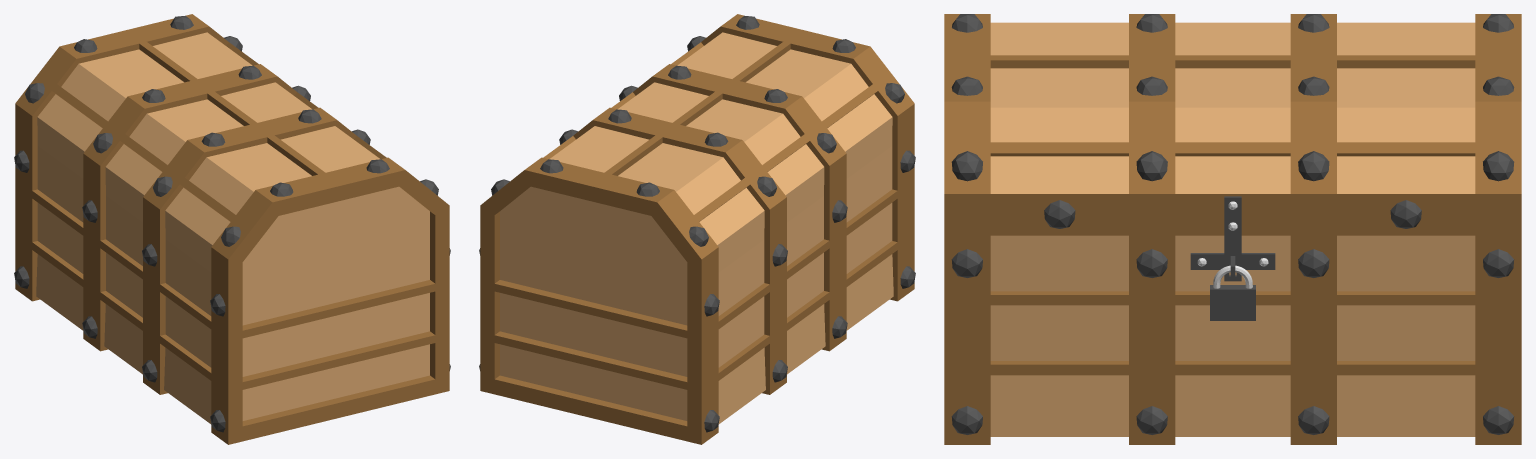
Rendered from wooden_chest1.glb.
3 views of the same model, side by side, from view 1: azimuth 30°, elevation 25°; view 2: azimuth 150°, elevation 25°; view 3: azimuth 270°, elevation 25° (orthographic). The views are drawn at different scales.
Parts seen in each view (by area): view 1: Cube; view 2: Cube; view 3: Cube, Cube.003, Cube.002, Cube.001, iron_cap.021, iron_cap.022, iron_cap.020, iron_cap.023, iron_cap.001, iron_cap.002, iron_cap.008, iron_cap.009 (+6 smaller).
Part boxes in pixels (left/top/right/bottom): Cube: left=15, top=14, right=449, bottom=444; Cube: left=480, top=14, right=914, bottom=444; Cube: left=944, top=14, right=1521, bottom=444; Cube.003: left=1210, top=285, right=1255, bottom=320; Cube.002: left=1190, top=253, right=1275, bottom=279; Cube.001: left=1224, top=196, right=1241, bottom=281; iron_cap.021: left=1136, top=151, right=1167, bottom=181; iron_cap.022: left=1298, top=151, right=1329, bottom=181; iron_cap.020: left=951, top=151, right=982, bottom=181; iron_cap.023: left=1483, top=151, right=1514, bottom=181; iron_cap.001: left=1136, top=406, right=1167, bottom=434; iron_cap.002: left=1298, top=406, right=1329, bottom=434; iron_cap.008: left=1044, top=200, right=1075, bottom=228; iron_cap.009: left=1390, top=200, right=1421, bottom=228.
Bounding box in the file's own units: 3.28 × 3.1 × 5.
